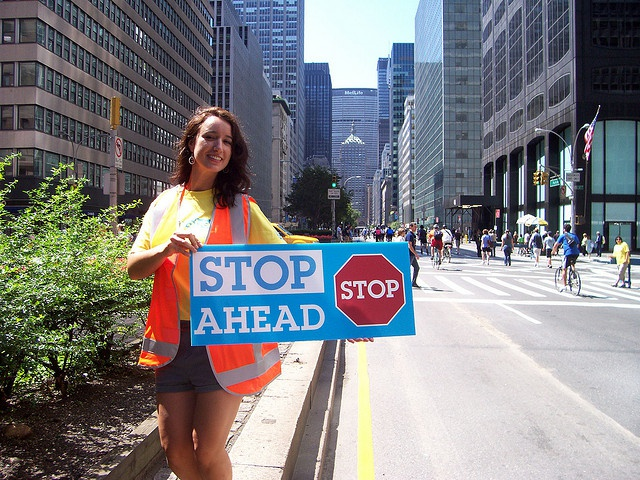non-vehicle: (554, 258, 582, 294), (430, 249, 439, 269), (443, 243, 452, 263), (388, 234, 392, 242), (364, 233, 367, 241), (378, 236, 382, 241)
